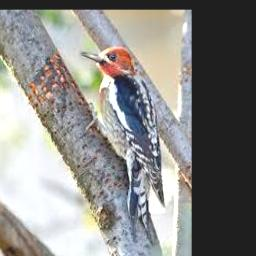Woodpecker: (80, 46, 165, 244)
